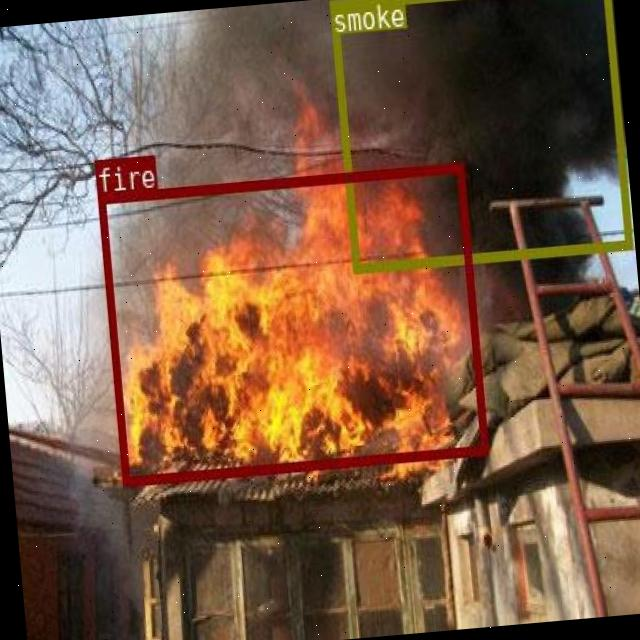fire: (95, 162, 486, 484)
smoke: (328, 0, 632, 272)
